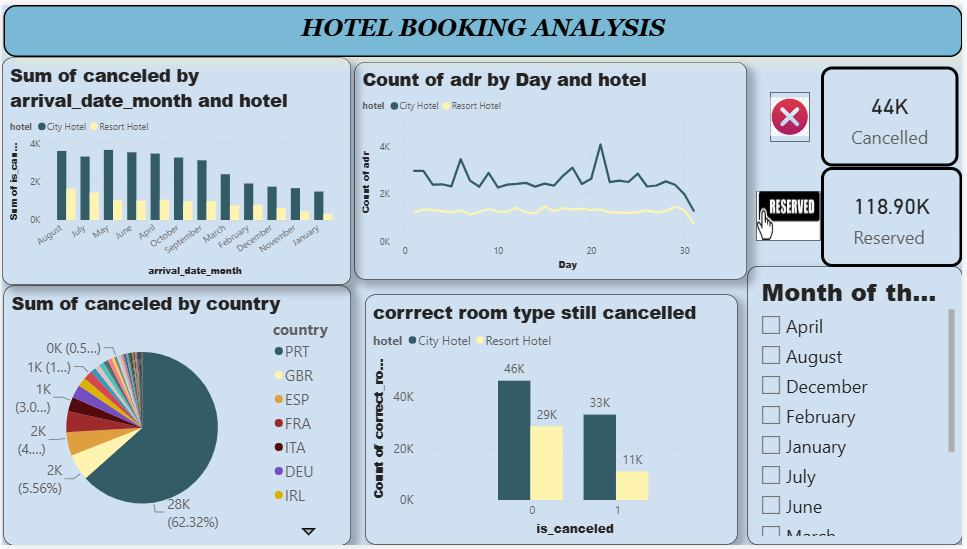

This screenshot's page, from the dashboard's own definition file:
{"tool":"powerbi","page":{"name":"Page 1","canvas":[1280,720],"ordinal":0},"visuals":[{"type":"clusteredColumnChart","title":"Sum of canceled by arrival_date_month and hotel","fields":{"Category":["Hotel_Booking.arrival_date_month"],"Series":["Hotel_Booking.hotel"],"Y":["Sum(Hotel_Booking.is_canceled)"]},"box":[0,70,465,303.3],"z":0},{"type":"pieChart","title":"Sum of canceled by country","fields":{"Category":["Hotel_Booking.country"],"Y":["Sum(Hotel_Booking.is_canceled)"]},"box":[1.7,373.3,463.3,346.7],"z":1000},{"type":"lineChart","fields":{"Category":["Hotel_Booking.reservation_status_date.Variation.Date Hierarchy.Day"],"Series":["Hotel_Booking.hotel"],"Y":["CountNonNull(Hotel_Booking.adr)"]},"box":[470,76.7,523.3,290],"z":2000},{"type":"clusteredColumnChart","title":"corrrect room type still cancelled ","fields":{"Category":["Hotel_Booking.is_canceled"],"Series":["Hotel_Booking.hotel"],"Y":["CountNonNull(Hotel_Booking.correct_room_type)"]},"box":[483.3,386.7,496.7,333.3],"z":3000},{"type":"slicer","fields":{"Values":["Hotel_Booking.arrival_date_month"]},"box":[993.3,348.3,286.7,371.7],"z":4000},{"type":"textbox","title":"HOTEL BOOKING ANALYSIS","box":[1.6,0,1279,69.3],"z":5000},{"type":"card","fields":{"Values":["Sum(Hotel_Booking.is_canceled)"]},"box":[1091.7,81.7,183.3,133.3],"z":6000},{"type":"card","fields":{"Values":["CountNonNull(Hotel_Booking.reserved_room_type)"]},"box":[1091.7,215,188.3,133.3],"z":7000},{"type":"image","box":[1023.3,115,53.3,66.7],"z":7001},{"type":"image","box":[1006.7,248.3,85,66.7],"z":7002}]}

Visuals, with their boxes in screenshot pixels (x1, y1, x2, y2), scaled from the page's 1280x720 canvas onto the 967x549 screenshot:
"Sum of canceled by arrival_date_month and hotel" clusteredColumnChart: l=0, t=53, r=351, b=285
"Sum of canceled by country" pieChart: l=1, t=285, r=351, b=548
lineChart - Hotel_Booking.reservation_status_date.Variation.Date Hierarchy.Day x Hotel_Booking.hotel: l=355, t=58, r=750, b=280
"corrrect room type still cancelled " clusteredColumnChart: l=365, t=295, r=740, b=548
slicer - Hotel_Booking.arrival_date_month: l=750, t=266, r=966, b=548
"HOTEL BOOKING ANALYSIS" textbox: l=1, t=0, r=966, b=53
card - Sum(Hotel_Booking.is_canceled): l=825, t=62, r=963, b=164
card - CountNonNull(Hotel_Booking.reserved_room_type): l=825, t=164, r=966, b=266
image: l=773, t=88, r=813, b=139
image: l=761, t=189, r=825, b=240
